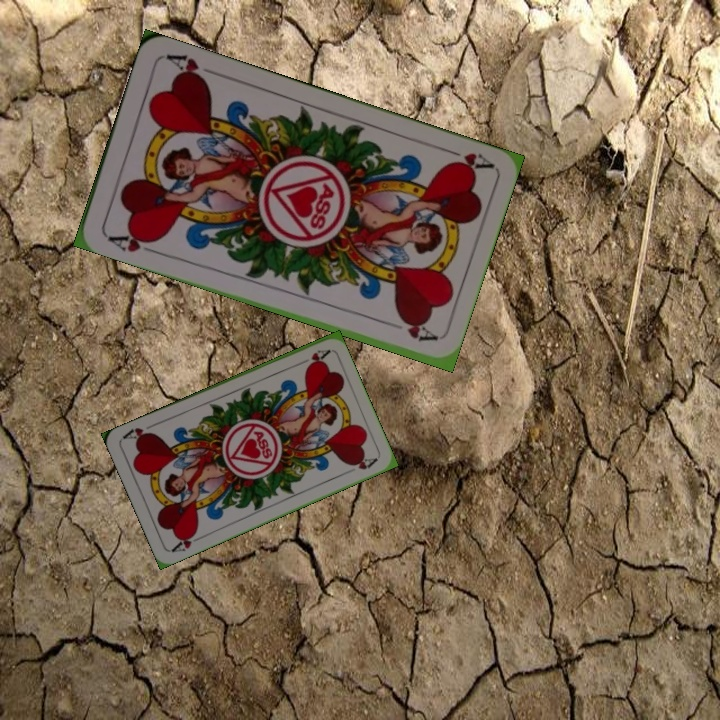HA: (437, 143, 495, 175), (102, 227, 161, 256), (168, 527, 206, 555), (293, 345, 331, 369)
